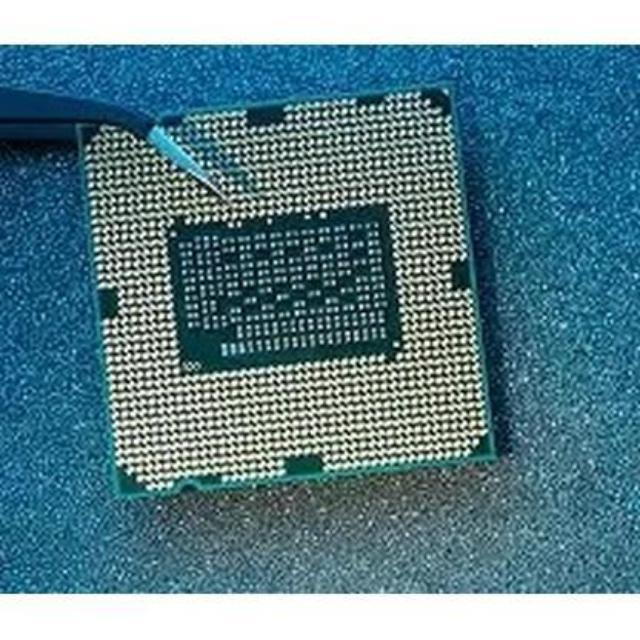CPU: (83, 107, 492, 487)
